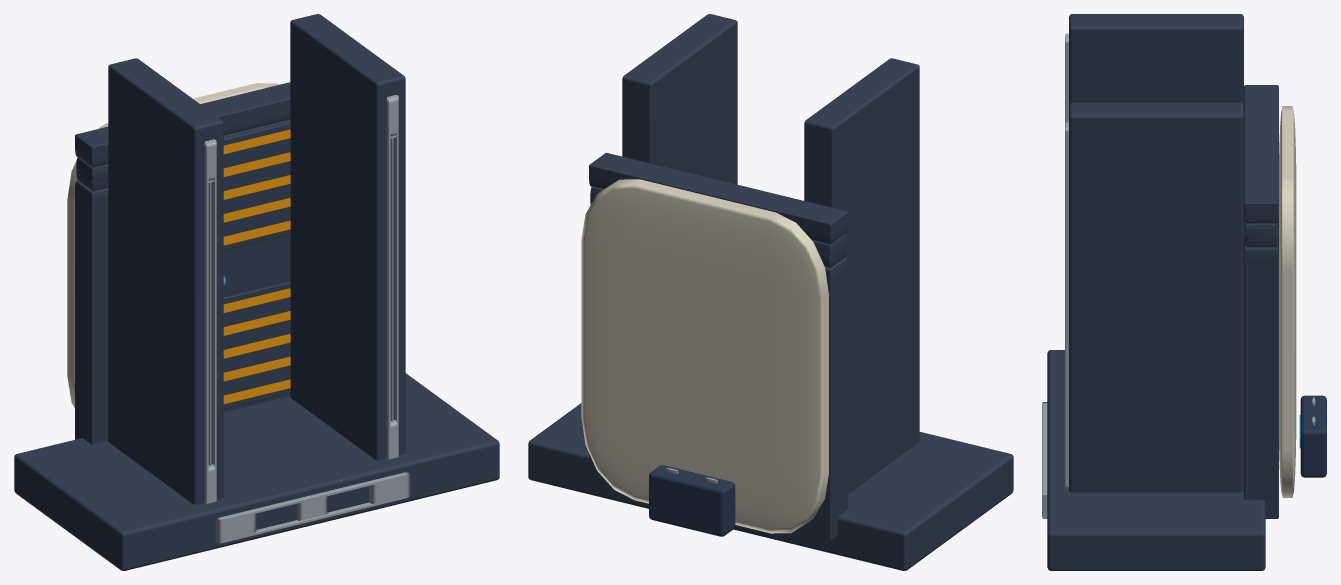
File: sample-r18.glb
3 renders of one model, left to right at view 1: azimuth 30°, elevation 25°; view 2: azimuth 150°, elevation 25°; view 3: azimuth 270°, elevation 25°, orthographic.
Visible parts, largest first — view 1: strap-right, strap-left, waist-belt, back-pad, heater-upper, heater-lower, insulation; view 2: insulation, strap-right, waist-belt, strap-left, back-pad, battery-pack; view 3: strap-left, waist-belt, strap-right, back-pad, insulation, battery-pack.
Boxes of the visible parts, left/top/right/bottom form: strap-right: left=108, top=58, right=223, bottom=504; strap-left: left=290, top=14, right=405, bottom=460; waist-belt: left=14, top=373, right=499, bottom=570; back-pad: left=75, top=82, right=290, bottom=444; heater-upper: left=223, top=121, right=290, bottom=250; heater-lower: left=223, top=281, right=290, bottom=409; insulation: left=67, top=83, right=278, bottom=407; insulation: left=581, top=179, right=828, bottom=533; strap-right: left=804, top=58, right=919, bottom=493; waist-belt: left=528, top=403, right=1013, bottom=570; strap-left: left=622, top=14, right=737, bottom=184; back-pad: left=589, top=152, right=847, bottom=540; battery-pack: left=649, top=465, right=735, bottom=536; strap-left: left=1065, top=102, right=1243, bottom=492; waist-belt: left=1042, top=350, right=1265, bottom=570; strap-right: left=1065, top=14, right=1243, bottom=124; back-pad: left=1244, top=85, right=1278, bottom=518; insulation: left=1279, top=106, right=1296, bottom=497; battery-pack: left=1299, top=395, right=1326, bottom=477.
Size of the model in its own units: 0.5 by 0.525 by 0.326.
